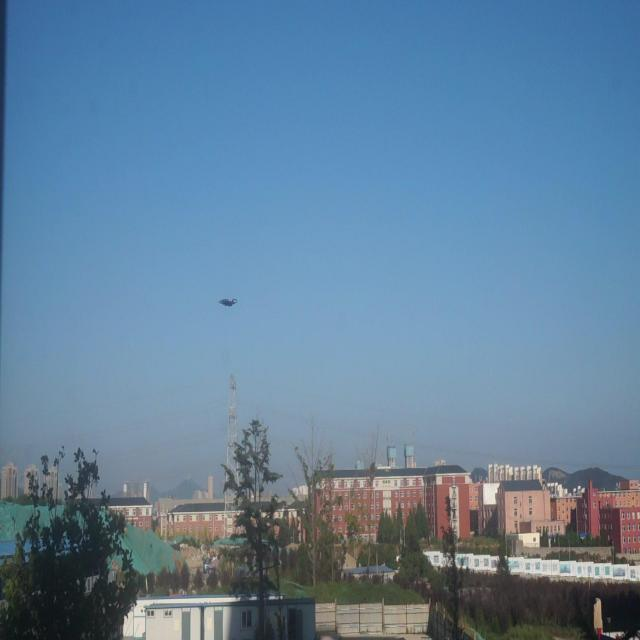UAV: (219, 299, 237, 307)
